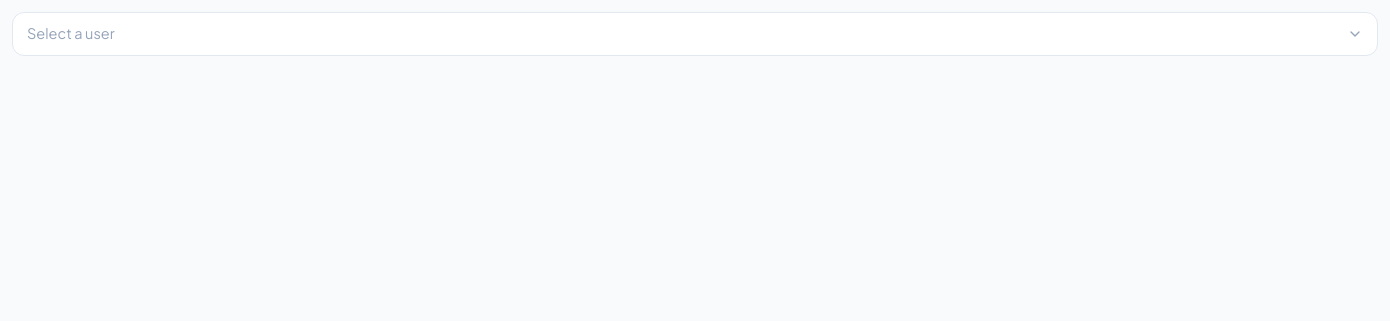
Test: UserSelect › opens on click and lists everyone
The width and height of the screenshot is (1390, 321).
Click the button: (71, 33) [12, 12, 1378, 56]
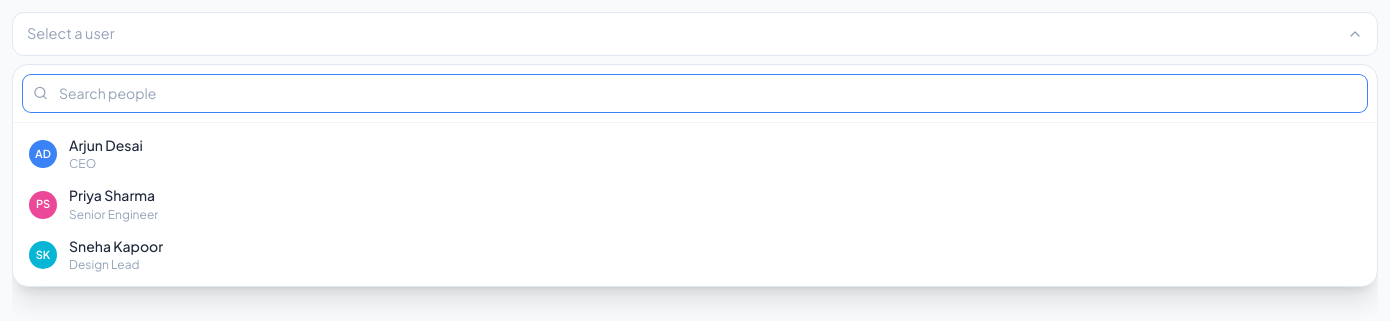
Now the number of options is 3, box [29, 136, 143, 171]; [29, 186, 158, 222]; [29, 237, 163, 272]
